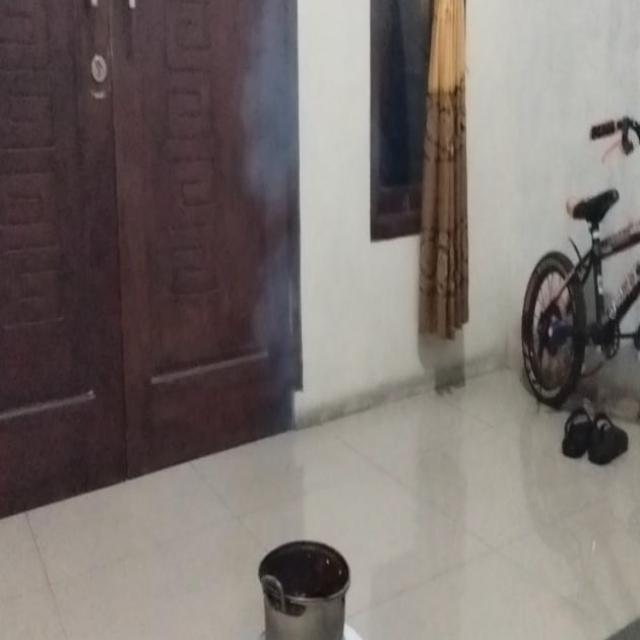fire: (240, 8, 308, 373)
